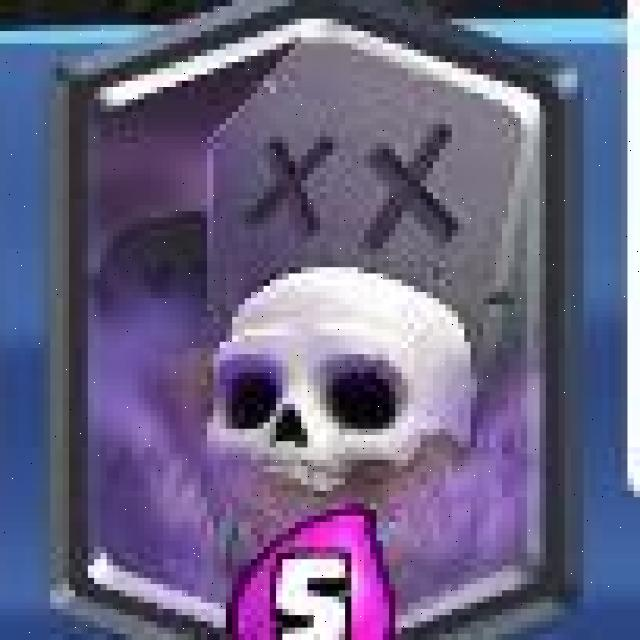Graveyard: (53, 0, 579, 640)
